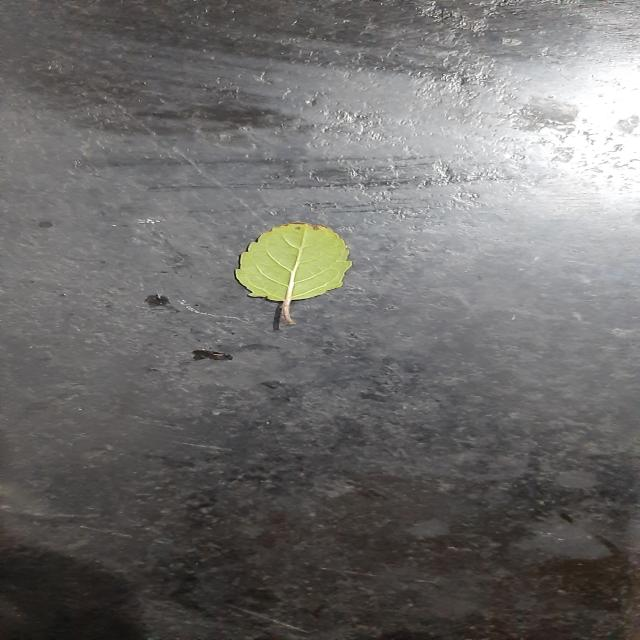tulsi: (236, 222, 352, 325)
